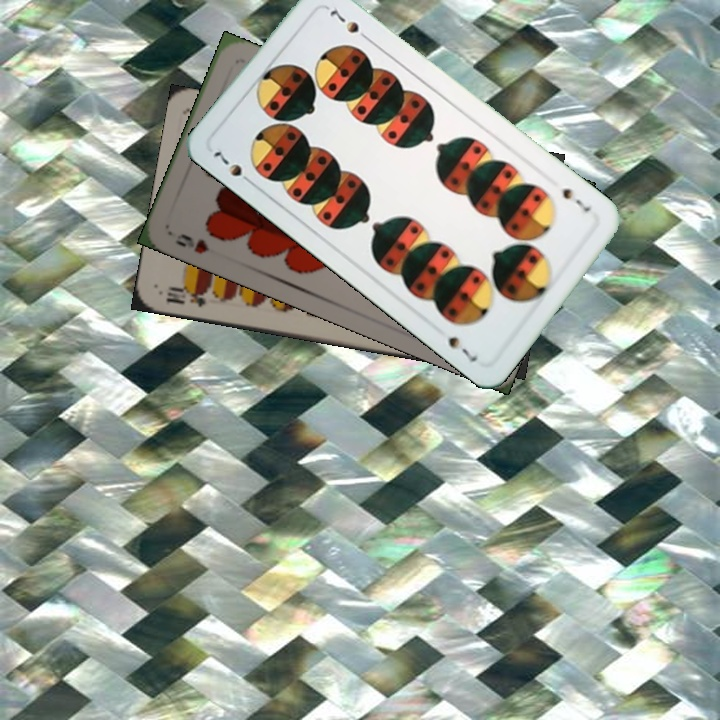E10: (162, 282, 210, 310)
H9: (171, 229, 212, 257)
S7: (209, 147, 257, 188), (558, 184, 594, 215)
